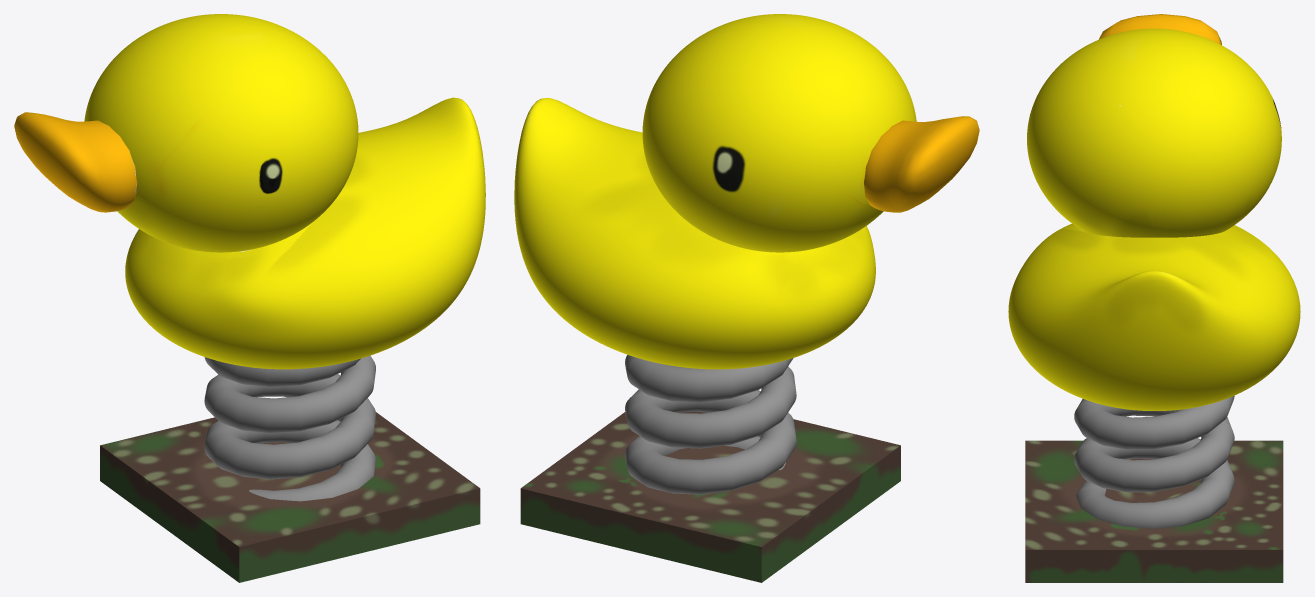
The model's file is Pato_prefab.fbx.
3 views of the same model, side by side, from view 1: azimuth 30°, elevation 25°; view 2: azimuth 150°, elevation 25°; view 3: azimuth 270°, elevation 25° (orthographic). The views are drawn at different scales.
Parts seen in each view (by area): view 1: Cube, Cube.001, Circle; view 2: Cube, Cube.001, Circle; view 3: Cube, Cube.001, Circle.
Boxes of the visible parts, box(x1,y1,x2,y2) form: Cube: box(14, 14, 485, 369); Cube.001: box(100, 412, 480, 582); Circle: box(204, 355, 375, 501); Cube: box(514, 14, 979, 369); Cube.001: box(520, 411, 900, 582); Circle: box(625, 354, 796, 494); Cube: box(1008, 14, 1300, 410); Cube.001: box(1025, 440, 1283, 582); Circle: box(1074, 395, 1234, 528).
Size of the model in its own units: 209 by 228 by 133.
3 materials, 2 textured.
